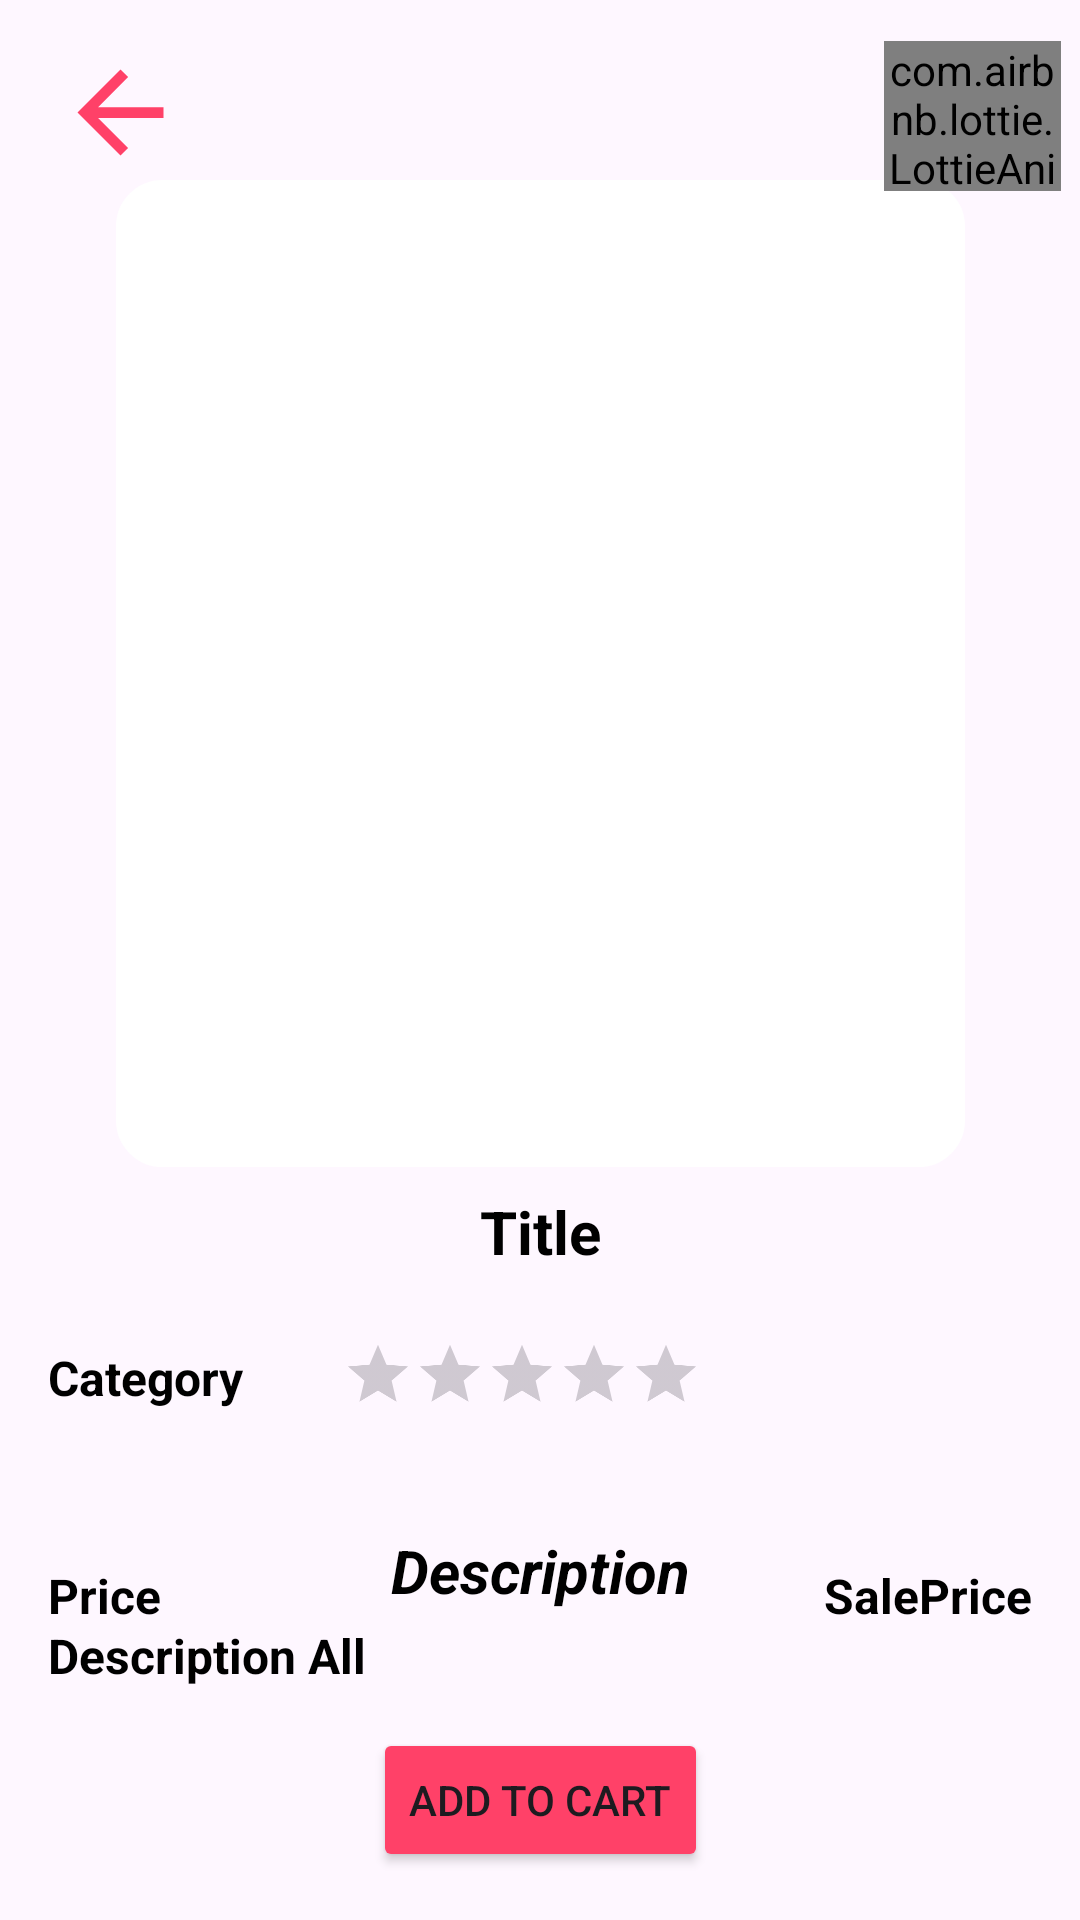

Screen size 1080px×1920px. Icon name, then its center in pixels as (x=x, y=y):
back: (x=120, y=112)
